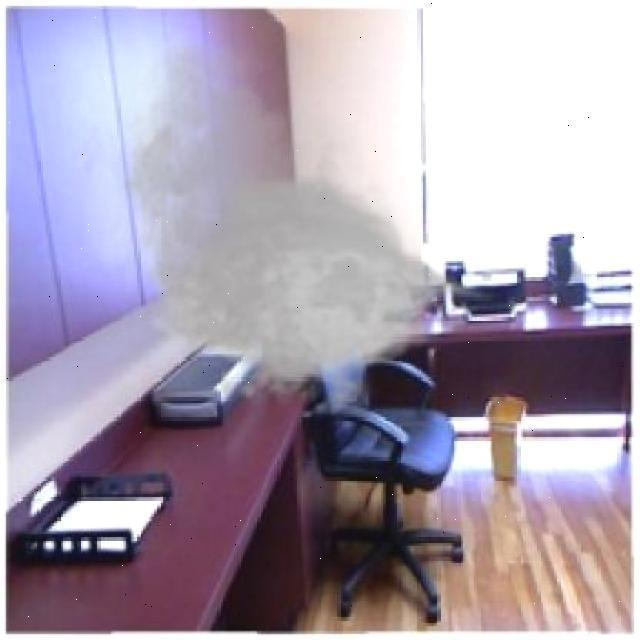smoke: (113, 63, 444, 385)
